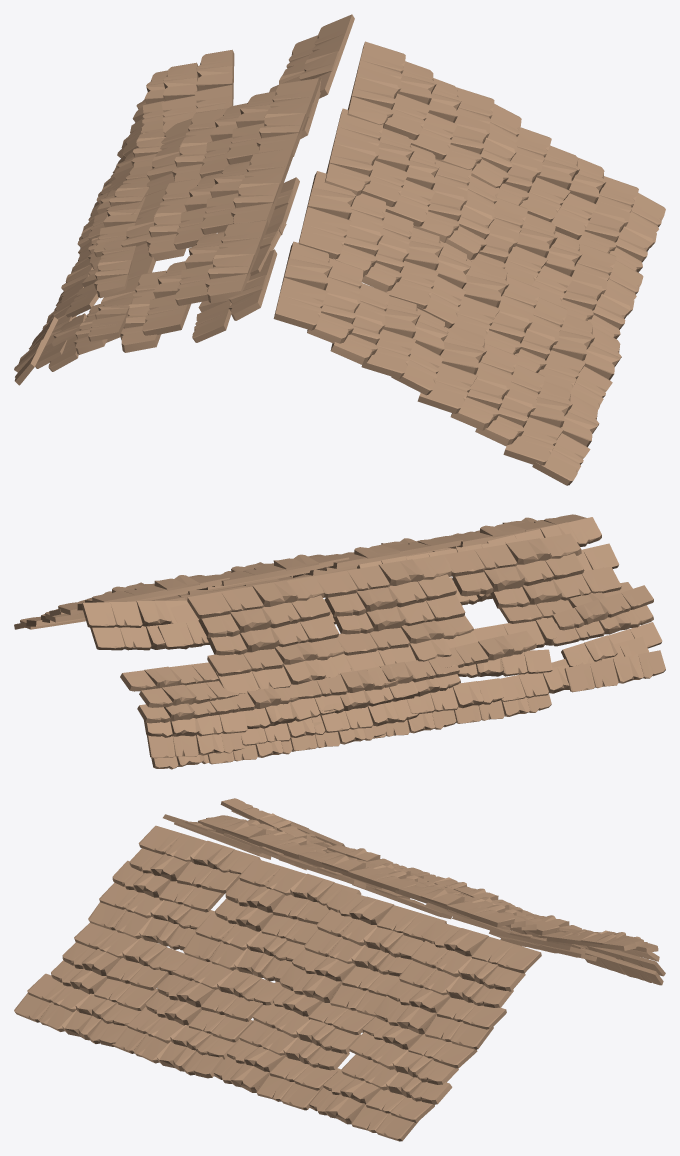
The model's file is HenRoofFix.fbx.
The picture shows the model from 3 angles, top to bottom: view 1: azimuth 30°, elevation 25°; view 2: azimuth 150°, elevation 25°; view 3: azimuth 270°, elevation 25°; orthographic projection. The views are drawn at different scales.
Visible parts, largest first — view 1: HenRoof; view 2: HenRoof; view 3: HenRoof.
Part boxes in pixels (x1,y1,x2,y2): HenRoof: [14, 14, 665, 485]; HenRoof: [14, 514, 665, 769]; HenRoof: [14, 798, 665, 1141].
Bounding box in the file's own units: 1706 × 371 × 1757.
